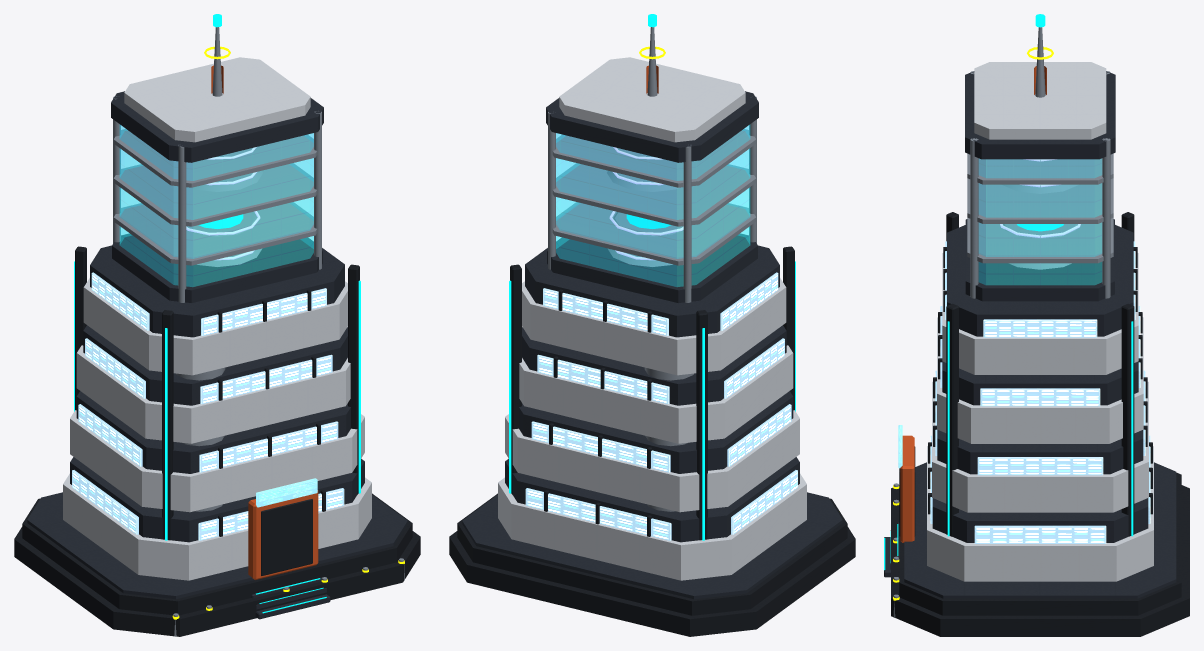
Rendered from bldg_19_r1_01.glb.
3 views of the same model, side by side, from view 1: azimuth 30°, elevation 25°; view 2: azimuth 150°, elevation 25°; view 3: azimuth 270°, elevation 25° (orthographic).
Parts seen in each view (by area): view 1: Bldg19_C01_aero_white, Bldg19_C01_carbon_slate, Bldg19_C01_gunmetal, Bldg19_C01_steel_machined, Bldg19_C01_glass_cyan, Bldg19_C01_window_lit, Bldg19_C01_led_cyan, Bldg19_C01_accent_orange, Bldg19_C01_marquee, Bldg19_C01_led_uv; view 2: Bldg19_C01_aero_white, Bldg19_C01_carbon_slate, Bldg19_C01_gunmetal, Bldg19_C01_steel_machined, Bldg19_C01_glass_cyan, Bldg19_C01_window_lit, Bldg19_C01_led_cyan, Bldg19_C01_led_uv; view 3: Bldg19_C01_aero_white, Bldg19_C01_carbon_slate, Bldg19_C01_gunmetal, Bldg19_C01_steel_machined, Bldg19_C01_glass_cyan, Bldg19_C01_window_lit, Bldg19_C01_led_cyan, Bldg19_C01_accent_orange, Bldg19_C01_led_uv.
Boxes of the visible parts, x1=… form: Bldg19_C01_aero_white: x1=63, y1=57, x2=371, y2=580; Bldg19_C01_carbon_slate: x1=27, y1=91, x2=407, y2=619; Bldg19_C01_gunmetal: x1=14, y1=246, x2=420, y2=636; Bldg19_C01_steel_machined: x1=113, y1=27, x2=404, y2=636; Bldg19_C01_glass_cyan: x1=119, y1=125, x2=313, y2=286; Bldg19_C01_window_lit: x1=72, y1=272, x2=344, y2=540; Bldg19_C01_led_cyan: x1=74, y1=14, x2=360, y2=613; Bldg19_C01_accent_orange: x1=211, y1=65, x2=318, y2=579; Bldg19_C01_marquee: x1=256, y1=478, x2=317, y2=507; Bldg19_C01_led_uv: x1=186, y1=147, x2=260, y2=260; Bldg19_C01_aero_white: x1=498, y1=57, x2=806, y2=580; Bldg19_C01_carbon_slate: x1=462, y1=91, x2=842, y2=599; Bldg19_C01_gunmetal: x1=449, y1=246, x2=855, y2=636; Bldg19_C01_steel_machined: x1=548, y1=27, x2=756, y2=511; Bldg19_C01_glass_cyan: x1=556, y1=125, x2=750, y2=286; Bldg19_C01_window_lit: x1=525, y1=272, x2=797, y2=540; Bldg19_C01_led_cyan: x1=509, y1=14, x2=795, y2=540; Bldg19_C01_led_uv: x1=609, y1=147, x2=683, y2=260; Bldg19_C01_aero_white: x1=927, y1=62, x2=1153, y2=581; Bldg19_C01_carbon_slate: x1=884, y1=71, x2=1176, y2=598; Bldg19_C01_gunmetal: x1=891, y1=212, x2=1189, y2=636; Bldg19_C01_steel_machined: x1=893, y1=27, x2=1113, y2=617; Bldg19_C01_glass_cyan: x1=979, y1=158, x2=1101, y2=284; Bldg19_C01_window_lit: x1=930, y1=241, x2=1150, y2=543; Bldg19_C01_led_cyan: x1=884, y1=14, x2=1133, y2=570; Bldg19_C01_accent_orange: x1=900, y1=66, x2=1046, y2=542; Bldg19_C01_led_uv: x1=1000, y1=159, x2=1080, y2=237.
Size of the model in its own units: 12 by 20.12 by 10.23.
Materials: 11 (11 with a texture image).
